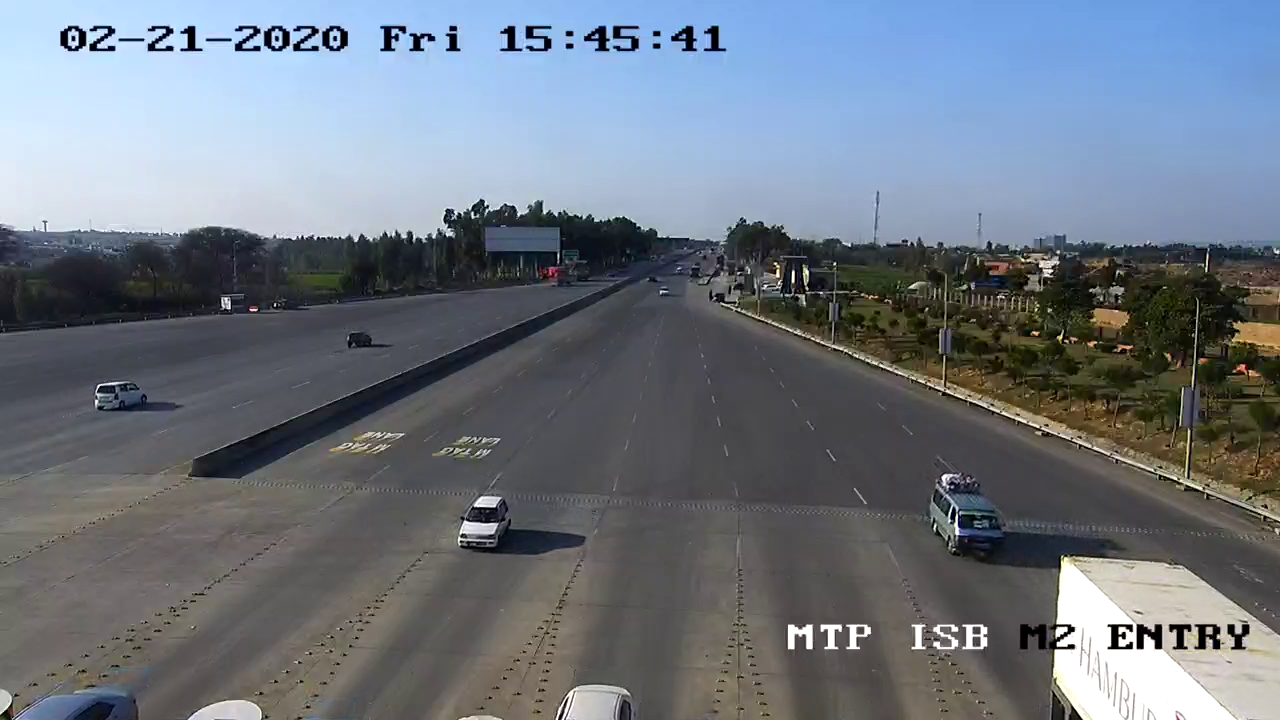f1: (446, 488, 520, 558)
f2: (926, 470, 1014, 566)
